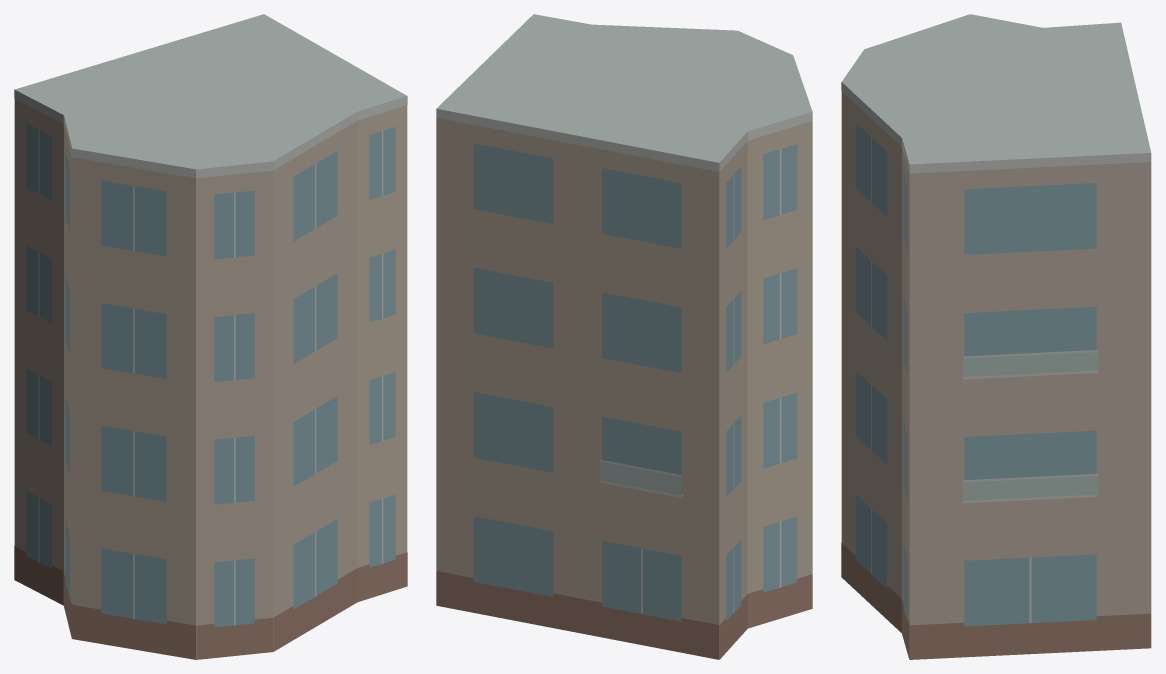
The model's file is survey-upis-32474499.glb.
3 renders of one model, left to right at view 1: azimuth 30°, elevation 25°; view 2: azimuth 150°, elevation 25°; view 3: azimuth 270°, elevation 25°, orthographic.
Visible parts, largest first — view 1: survey-upis-32474499.tmp; view 2: survey-upis-32474499.tmp; view 3: survey-upis-32474499.tmp.
Boxes of the visible parts, x1,y1,x2,y2 form: survey-upis-32474499.tmp: (14,14,407,659); survey-upis-32474499.tmp: (436,14,812,659); survey-upis-32474499.tmp: (841,14,1151,659).
Size of the model in its own units: 8.68 by 13.3 by 7.55.
